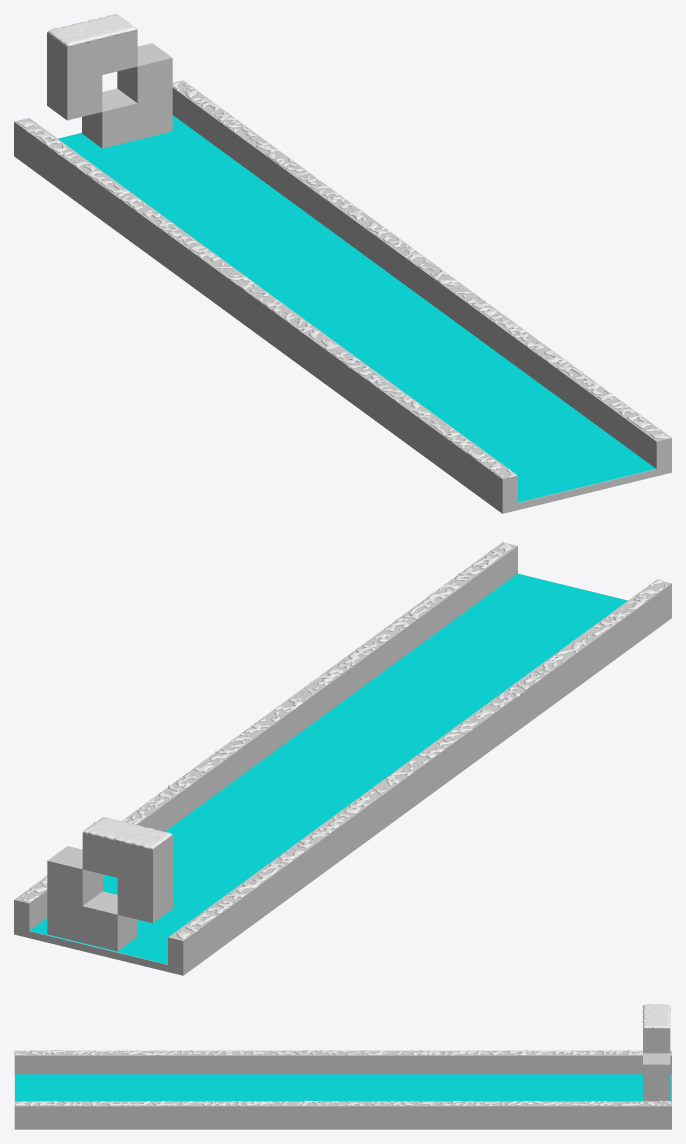
The model's file is Map357.fbx.
3 renders of one model, top to bottom at view 1: azimuth 30°, elevation 25°; view 2: azimuth 150°, elevation 25°; view 3: azimuth 270°, elevation 25°, orthographic. The views are drawn at different scales.
Parts seen in each view (by area): view 1: Plane.001, Cube.001, Cube.002, SnowBall.002, SnowBall.003, SnowBall.001; view 2: Plane.001, Cube.001, Cube.002, SnowBall.003, SnowBall.002, SnowBall.001; view 3: Cube.001, Plane.001, SnowBall.002, SnowBall.003, Cube.002, SnowBall.001.
Part boxes in pixels (box(x1,y1,x2,y2)): Plane.001: box(58, 115, 655, 502); Cube.001: box(14, 80, 671, 513); Cube.002: box(47, 29, 172, 148); SnowBall.002: box(172, 82, 669, 438); SnowBall.003: box(17, 121, 516, 477); SnowBall.001: box(48, 14, 135, 46); Plane.001: box(30, 573, 627, 964); Cube.001: box(14, 542, 671, 975); Cube.002: box(47, 832, 173, 951); SnowBall.003: box(176, 579, 666, 939); SnowBall.002: box(21, 542, 511, 901); SnowBall.001: box(83, 817, 171, 849); Cube.001: box(14, 1050, 671, 1129); Plane.001: box(15, 1074, 671, 1101); SnowBall.002: box(15, 1100, 670, 1106); SnowBall.003: box(14, 1050, 642, 1055); Cube.002: box(643, 1007, 670, 1101); SnowBall.001: box(642, 1004, 670, 1029).
Size of the model in its own units: 244 by 162 by 1204.
